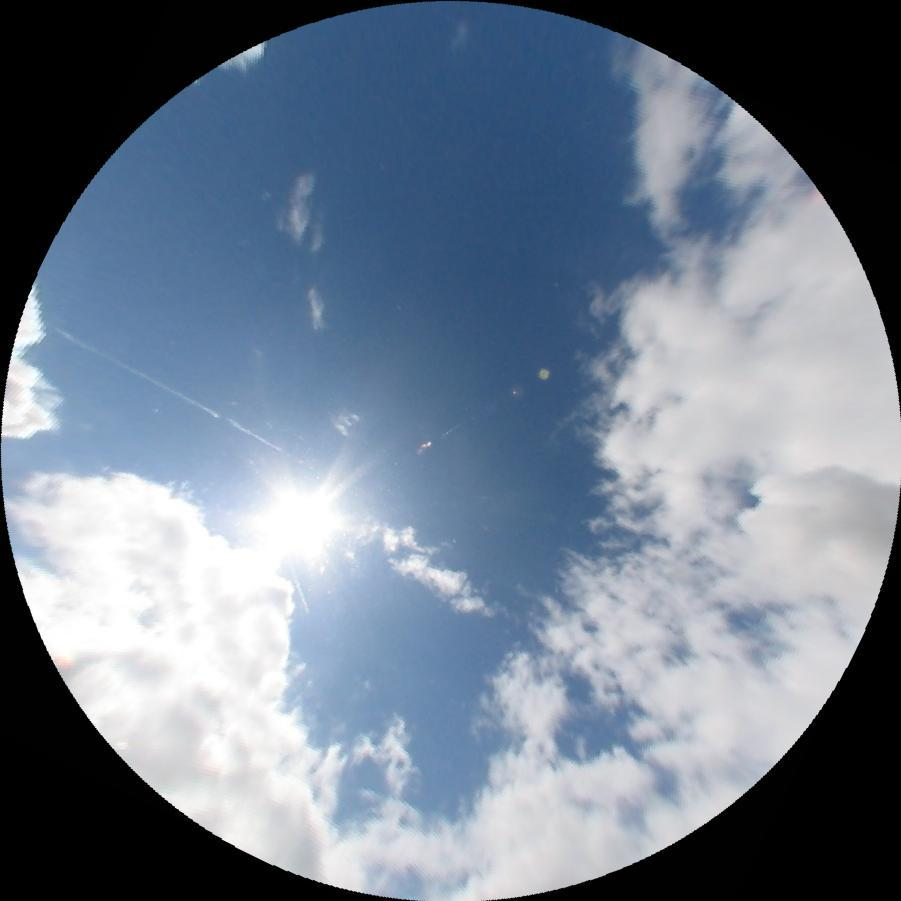contrail young: (290, 568, 309, 613), (222, 399, 239, 404)
parasite: (54, 326, 284, 452)
sun: (245, 468, 353, 576)
